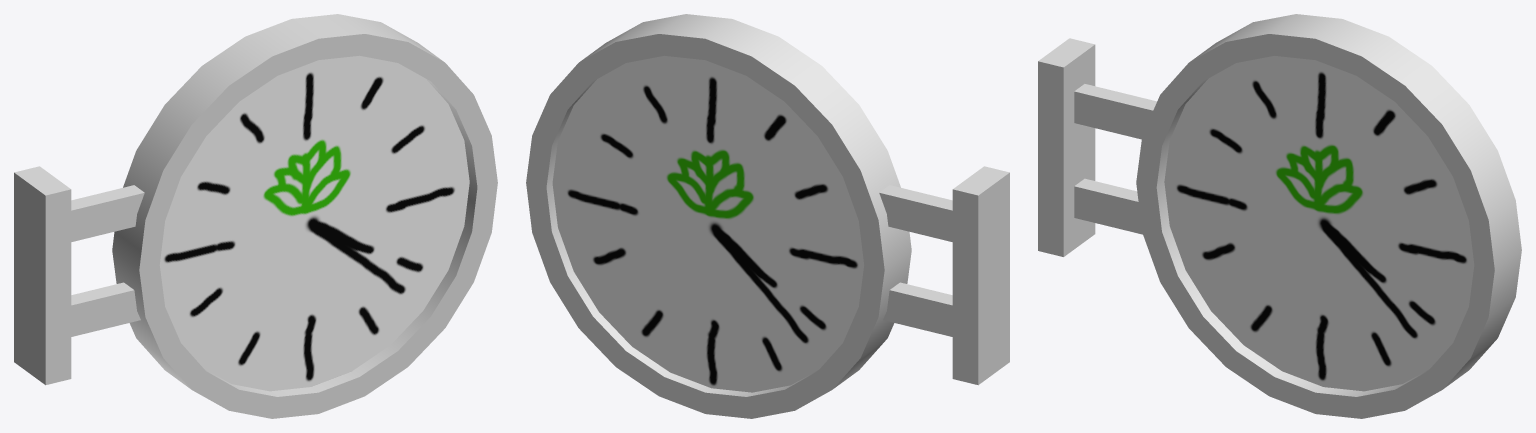
Rendered from Clocknewuv(1).fbx.
The picture shows the model from 3 angles, left to right: view 1: azimuth 30°, elevation 25°; view 2: azimuth 150°, elevation 25°; view 3: azimuth 330°, elevation 25°; orthographic projection.
Parts seen in each view (by area): view 1: Cylinder.015, Cube.016; view 2: Cylinder.015, Cube.016; view 3: Cylinder.015, Cube.016.
Boxes of the visible parts, x1,y1,x2,y2 form: Cylinder.015: [112, 14, 497, 418]; Cube.016: [14, 166, 144, 385]; Cylinder.015: [526, 14, 911, 418]; Cube.016: [879, 166, 1009, 385]; Cylinder.015: [1136, 14, 1521, 418]; Cube.016: [1038, 38, 1156, 256].
Size of the model in its own units: 132 by 104 by 15.82.
Materials: 2 (1 with a texture image).
